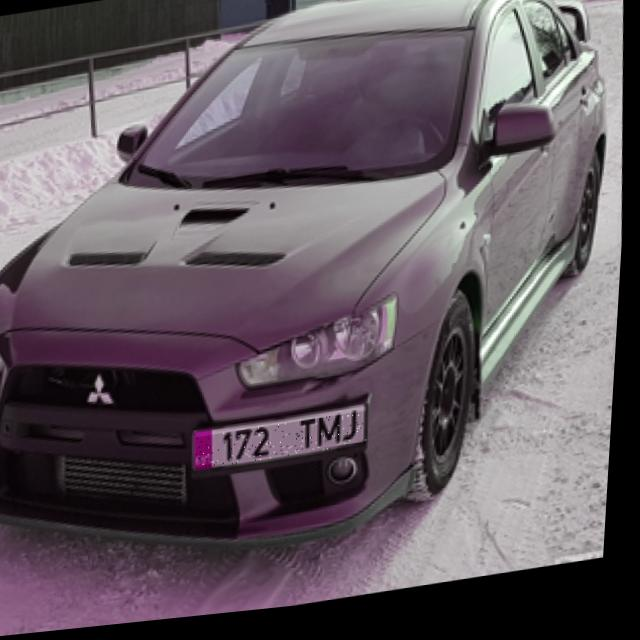license_plate: (201, 419, 373, 475)
